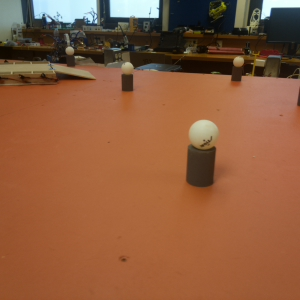obstacle: (184, 121, 218, 187), (120, 61, 135, 92), (229, 56, 244, 81), (64, 46, 76, 65)
side: (1, 69, 53, 86)
slope: (56, 66, 95, 82)
